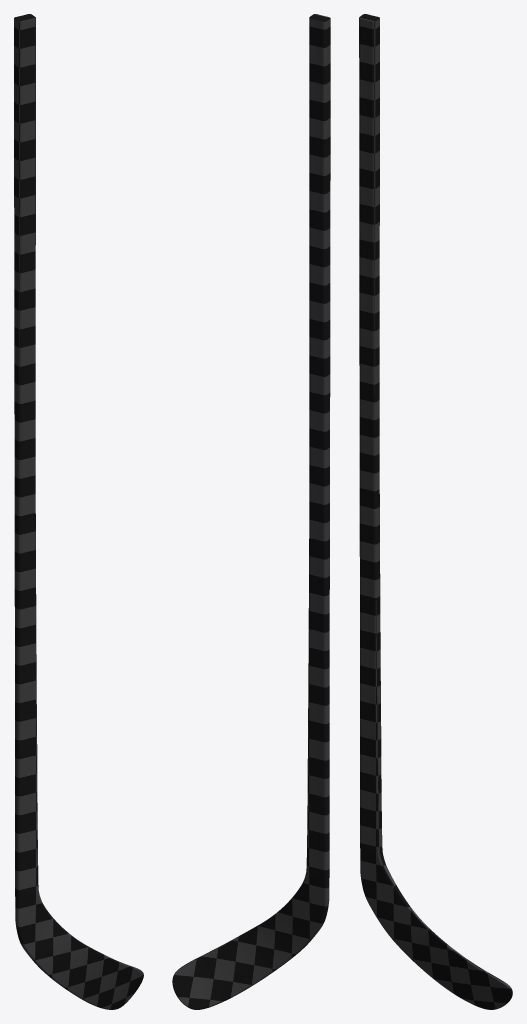
The model's file is P84-SBT.glb.
The picture shows the model from 3 angles, left to right: view 1: azimuth 30°, elevation 25°; view 2: azimuth 150°, elevation 25°; view 3: azimuth 330°, elevation 25°; orthographic projection. The views are drawn at different scales.
Parts seen in each view (by area): view 1: geometry_0; view 2: geometry_0; view 3: geometry_0.
Boxes of the visible parts, x1=… form: geometry_0: x1=14, y1=14, x2=143, y2=1009; geometry_0: x1=172, y1=14, x2=330, y2=1009; geometry_0: x1=359, y1=14, x2=512, y2=1009.
Bounding box in the file's own units: 241 × 1650 × 65.01.
Materials: 1 (1 with a texture image).
